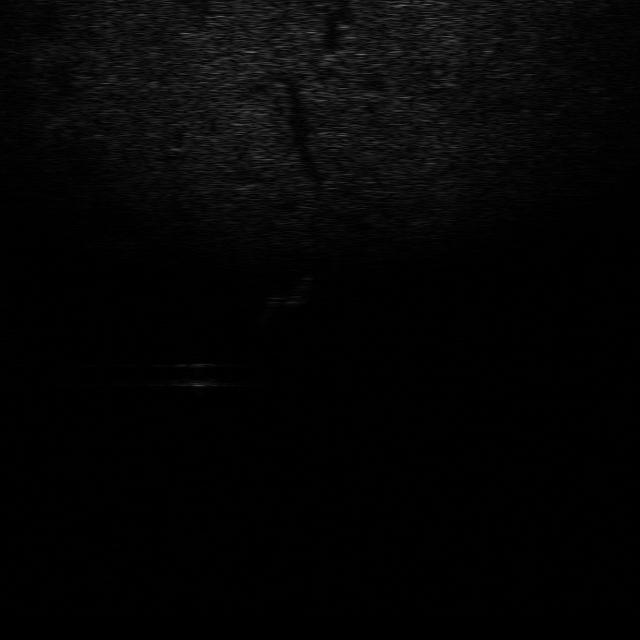ball: (166, 358, 225, 392)
human body: (258, 267, 312, 324)
